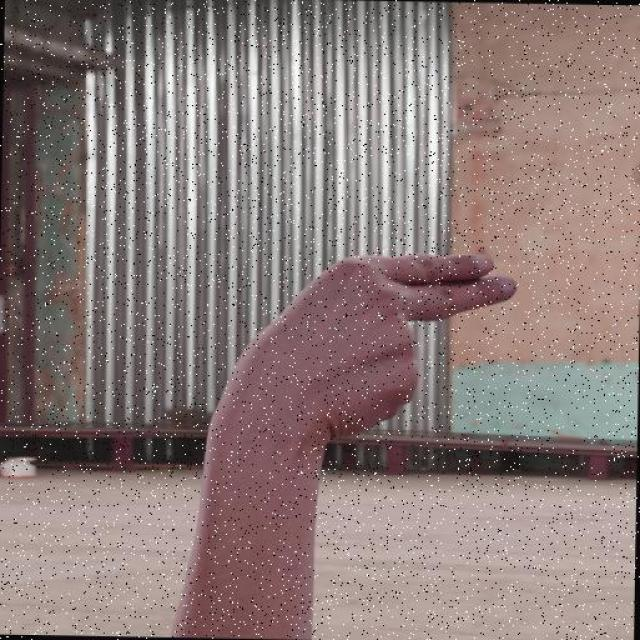H: (214, 240, 521, 462)
